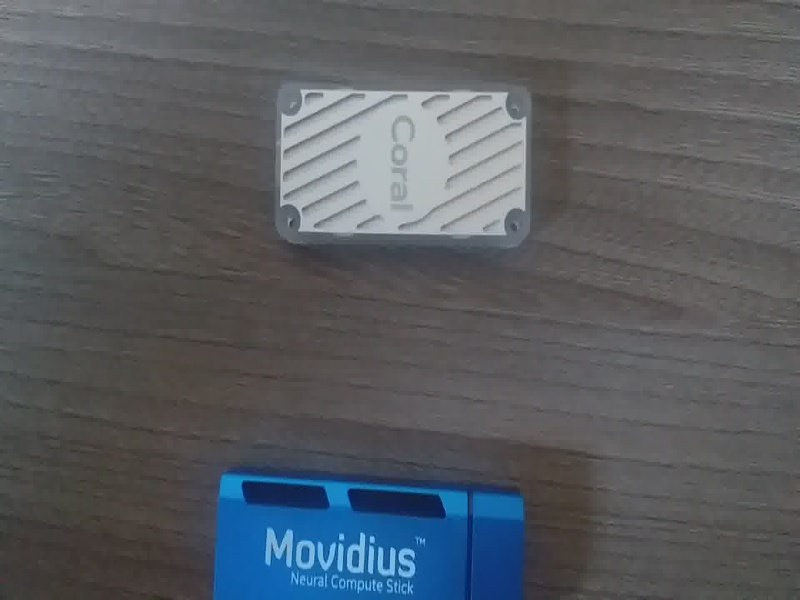coral: (265, 75, 543, 261)
movidius: (212, 463, 531, 600)
